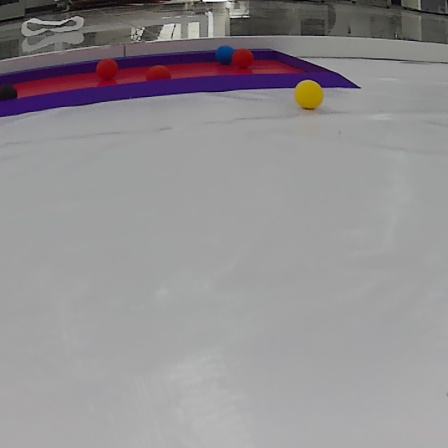black: (0, 82, 26, 103)
blue: (209, 45, 231, 65)
red: (94, 56, 124, 81), (232, 45, 257, 72)
red_aim: (0, 37, 360, 111), (142, 67, 185, 86)
yellow: (285, 79, 326, 112)
